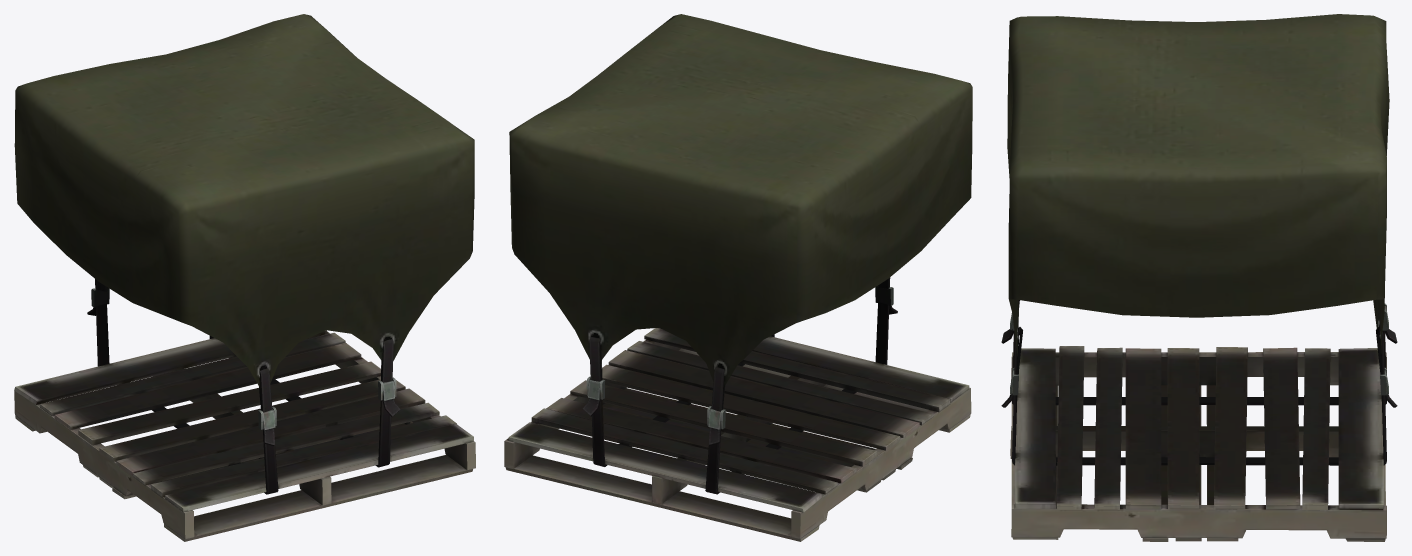
3 views of the same model, side by side, from view 1: azimuth 30°, elevation 25°; view 2: azimuth 150°, elevation 25°; view 3: azimuth 270°, elevation 25° (orthographic). The views are drawn at different scales.
Visible parts, largest first — view 1: body0_model0_lod0_mesh0; view 2: body0_model0_lod0_mesh0; view 3: body0_model0_lod0_mesh0.
Part boxes in pixels (x1=…): body0_model0_lod0_mesh0: x1=14, y1=14, x2=475, y2=541; body0_model0_lod0_mesh0: x1=504, y1=14, x2=972, y2=541; body0_model0_lod0_mesh0: x1=1001, y1=14, x2=1397, y2=541.
Size of the model in its own units: 77.04 by 83.55 by 80.23.
1 material, 1 textured.
